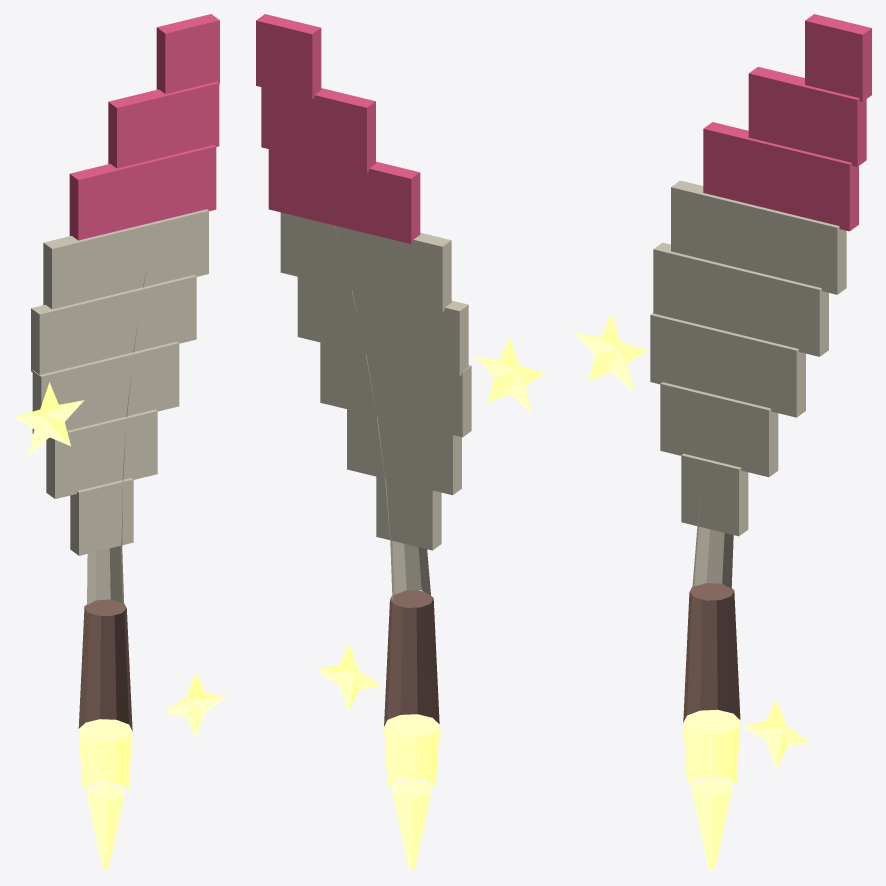
The model's file is f-fjaderpenna-quill-cc0.glb.
3 renders of one model, left to right at view 1: azimuth 30°, elevation 25°; view 2: azimuth 150°, elevation 25°; view 3: azimuth 330°, elevation 25°, orthographic. The views are drawn at different scales.
Parts seen in each view (by area): view 1: Fjaderpenna_Quill; view 2: Fjaderpenna_Quill; view 3: Fjaderpenna_Quill.
Boxes of the visible parts, bbox=[...] form: Fjaderpenna_Quill: bbox=[15, 14, 226, 869]; Fjaderpenna_Quill: bbox=[256, 14, 545, 870]; Fjaderpenna_Quill: bbox=[574, 14, 871, 870].
Size of the model in its own units: 0.2848 by 0.9225 by 0.1028.
